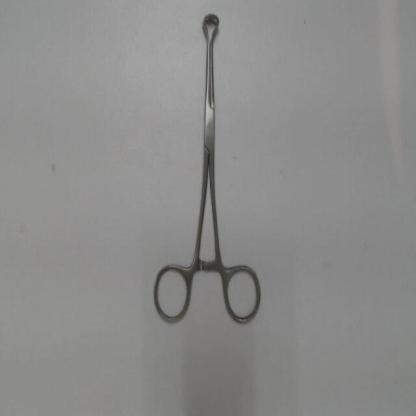Babcock Tissue Forceps: (151, 10, 265, 326)
